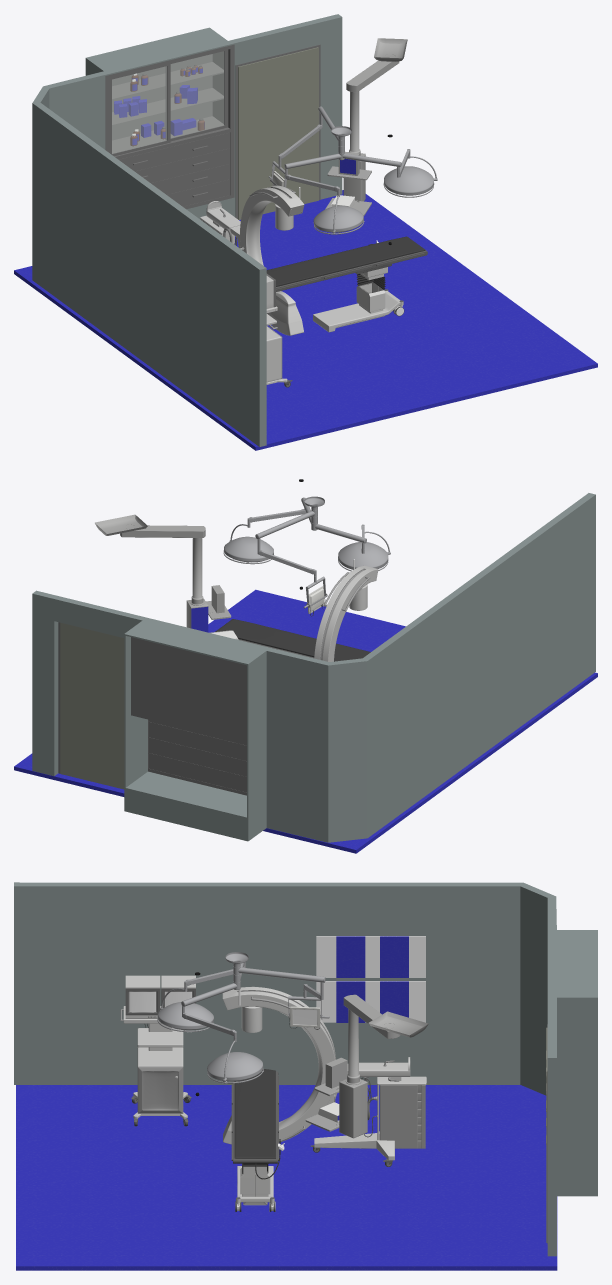
Rendered from sala .fbx.
3 renders of one model, top to bottom at view 1: azimuth 30°, elevation 25°; view 2: azimuth 150°, elevation 25°; view 3: azimuth 270°, elevation 25°, orthographic. The views are drawn at different scales.
Parts seen in each view (by area): view 1: Obj3d66-626628-91-538_143, Obj3d66-626628-127-526_133, Obj3d66-626628-31-480_73, Obj3d66-626628-89-83_68, Obj3d66-626628-99-256_42, Obj3d66-626628-37-396_77, Obj3d66-626628-38-984_78, Obj3d66-626628-87-179_142, Obj3d66-626628-103-484_25, Obj3d66-626628-119-228_31, Obj3d66-626628-11-79_55, Obj3d66-626628-110-727_11 (+10 smaller); view 2: Obj3d66-626628-91-538_143, Obj3d66-626628-31-480_73, Obj3d66-626628-87-179_142, Obj3d66-626628-89-83_68, Obj3d66-626628-127-526_133, Obj3d66-626628-99-256_42, Obj3d66-626628-103-484_25, Obj3d66-626628-5-930_57, Obj3d66-626628-126-711_20, Obj3d66-626628-110-727_11, Obj3d66-626628-11-79_55, Obj3d66-626628-101-783_23 (+2 smaller); view 3: Obj3d66-626628-91-538_143, Obj3d66-626628-127-526_133, Obj3d66-626628-87-179_142, Obj3d66-626628-99-256_42, Obj3d66-626628-103-484_25, Obj3d66-626628-92-709_35, Obj3d66-626628-11-79_55, Obj3d66-626628-22-282_52, Obj3d66-626628-21-63_51, Obj3d66-626628-25-331_136, Obj3d66-626628-126-711_20, Obj3d66-626628-26-635_137 (+13 smaller).
Part boxes in pixels (bbox=[...]): Obj3d66-626628-91-538_143: bbox=[32, 14, 342, 446]; Obj3d66-626628-127-526_133: bbox=[14, 190, 597, 450]; Obj3d66-626628-31-480_73: bbox=[105, 44, 234, 209]; Obj3d66-626628-89-83_68: bbox=[238, 47, 318, 219]; Obj3d66-626628-99-256_42: bbox=[200, 185, 304, 335]; Obj3d66-626628-37-396_77: bbox=[112, 66, 166, 153]; Obj3d66-626628-38-984_78: bbox=[171, 51, 224, 138]; Obj3d66-626628-87-179_142: bbox=[85, 27, 231, 219]; Obj3d66-626628-103-484_25: bbox=[266, 236, 425, 286]; Obj3d66-626628-119-228_31: bbox=[313, 267, 403, 332]; Obj3d66-626628-11-79_55: bbox=[326, 91, 371, 214]; Obj3d66-626628-110-727_11: bbox=[285, 169, 364, 234]; Obj3d66-626628-91-538_143: bbox=[32, 493, 595, 842]; Obj3d66-626628-31-480_73: bbox=[131, 637, 246, 795]; Obj3d66-626628-87-179_142: bbox=[124, 617, 270, 841]; Obj3d66-626628-89-83_68: bbox=[60, 622, 124, 789]; Obj3d66-626628-127-526_133: bbox=[14, 589, 597, 853]; Obj3d66-626628-99-256_42: bbox=[314, 565, 378, 661]; Obj3d66-626628-103-484_25: bbox=[215, 619, 370, 661]; Obj3d66-626628-5-930_57: bbox=[95, 514, 205, 537]; Obj3d66-626628-126-711_20: bbox=[223, 508, 306, 564]; Obj3d66-626628-110-727_11: bbox=[338, 524, 390, 571]; Obj3d66-626628-11-79_55: bbox=[186, 538, 231, 632]; Obj3d66-626628-101-783_23: bbox=[255, 496, 324, 576]; Obj3d66-626628-91-538_143: bbox=[14, 882, 556, 1256]; Obj3d66-626628-127-526_133: bbox=[16, 1085, 557, 1270]; Obj3d66-626628-87-179_142: bbox=[547, 930, 597, 1196]; Obj3d66-626628-99-256_42: bbox=[222, 987, 426, 1160]; Obj3d66-626628-103-484_25: bbox=[234, 1069, 275, 1158]; Obj3d66-626628-92-709_35: bbox=[237, 986, 425, 1148]; Obj3d66-626628-11-79_55: bbox=[306, 1009, 367, 1138]; Obj3d66-626628-22-282_52: bbox=[123, 1006, 187, 1118]; Obj3d66-626628-21-63_51: bbox=[120, 1009, 183, 1113]; Obj3d66-626628-25-331_136: bbox=[316, 936, 425, 977]; Obj3d66-626628-126-711_20: bbox=[182, 1006, 263, 1083]; Obj3d66-626628-26-635_137: bbox=[316, 981, 425, 1022].
Bounding box in the file's own units: 485 × 275 × 640.
55 materials, 13 textured.
